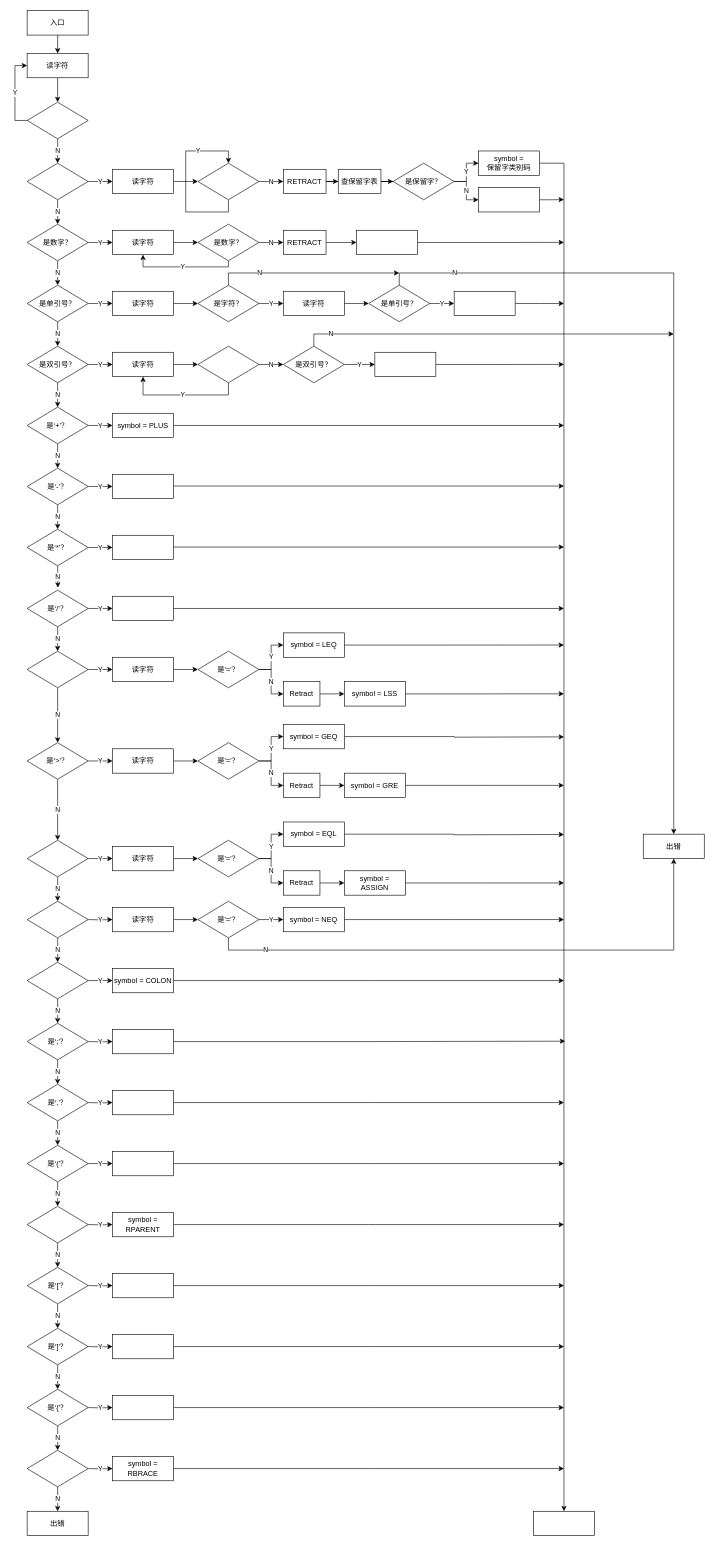
This 715x1546 diagram has some shape labels left out. The shapes that lost their labels are listed below. From the top down, each one's centre as x and y in pixels, then its label:
At (57,120): "是空字符？".
At (57,181): "是字母？".
At (228,181): "是字母或数字？".
At (509,199): "symbol = IDENFR".
At (387,242): "symbol = INTCON".
At (484,303): "symbol = CHARCON".
At (228,364): "是字符串字符？".
At (405,364): "symbol = STRCON".
At (143,486): "symbol = MINU".
At (143,547): "symbol = MULT".
At (143,608): "symbol = DIV".
At (57,669): "是‘<'？".
At (57,858): "是‘='？".
At (57,919): "是‘!'？".
At (57,980): "是‘:'？".
At (143,1041): "symbol = SEMICN".
At (143,1102): "symbol = COMMA".
At (143,1163): "symbol = LPARENT".
At (57,1224): "是‘)'？".
At (143,1285): "symbol = LBRACK".
At (143,1346): "symbol = RBRACK".
At (143,1407): "symbol = LBRACE".
At (57,1468): "是‘}'？".
At (563,1523): "出口".
